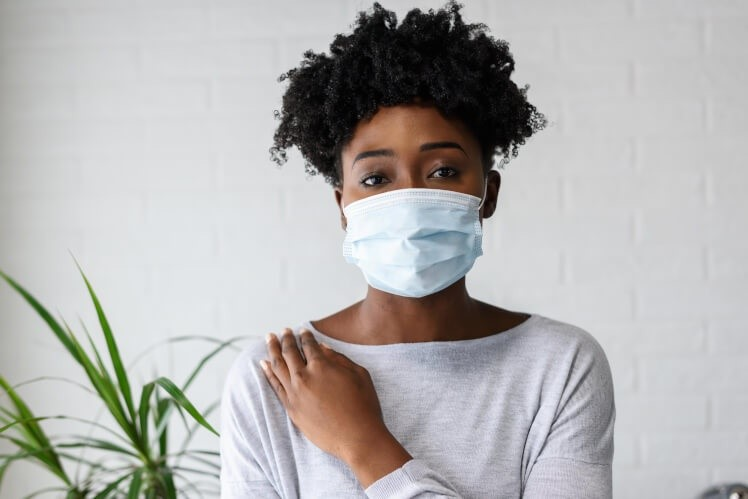face_with_mask: (314, 49, 506, 299)
